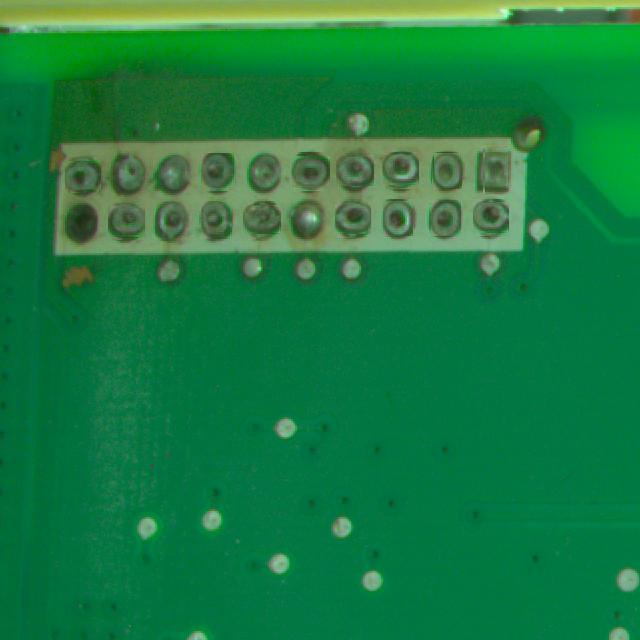low_solder: (156, 202, 187, 240), (291, 156, 329, 187), (202, 154, 235, 189), (484, 146, 508, 194), (430, 200, 461, 236), (108, 206, 144, 237), (201, 202, 232, 238), (337, 155, 374, 185), (433, 152, 462, 189), (335, 204, 371, 233), (382, 155, 418, 184), (67, 160, 101, 190), (384, 200, 412, 236), (244, 205, 280, 233), (474, 203, 508, 232)
